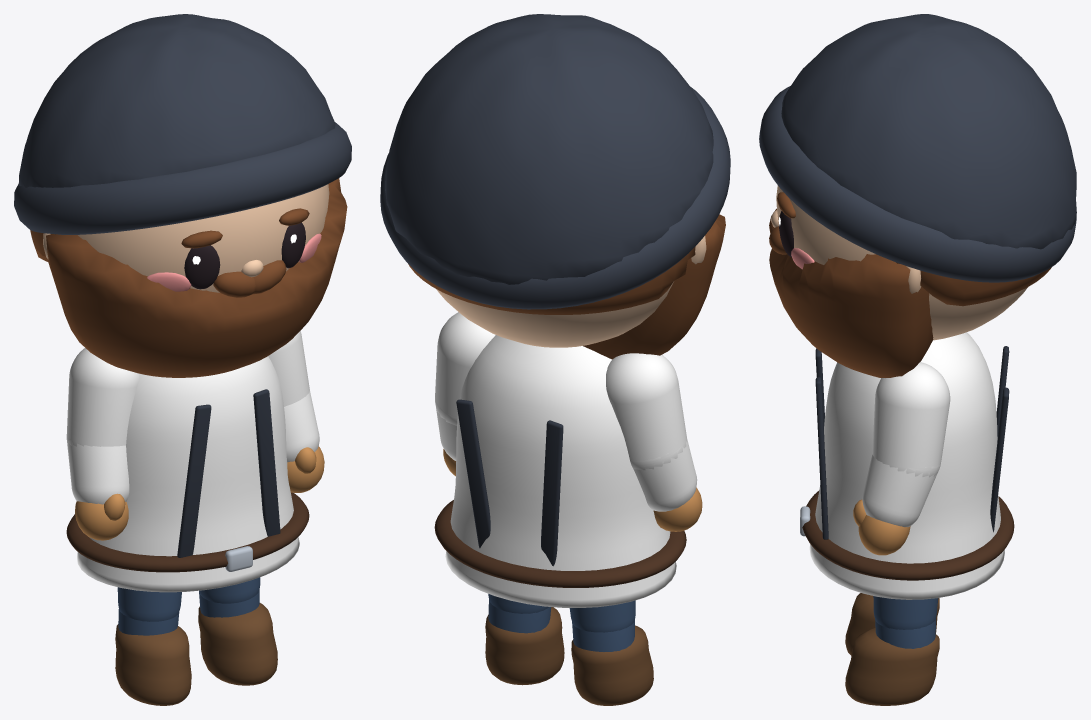
Rendered from lumberjack.glb.
3 renders of one model, left to right at view 1: azimuth 30°, elevation 25°; view 2: azimuth 150°, elevation 25°; view 3: azimuth 270°, elevation 25°, orthographic. The views are drawn at different scales.
Visible parts, largest first — view 1: head_body, spine_body, knee_R_body, knee_L_body, uarm_R, farm_R, head_face_normal+face_smile, hand_R_body, uarm_L, thigh_R, farm_L, hand_L_body (+1 smaller); view 2: head_body, spine_body, uarm_R, knee_R_body, knee_L_body, uarm_L, farm_R, thigh_R, hand_R_body, farm_L, thigh_L; view 3: head_body, spine_body, uarm_L, knee_L_body, farm_L, thigh_L, hand_L_body, knee_R_body.
Boxes of the visible parts, bbox=[...] form: head_body: bbox=[14, 14, 351, 377]; spine_body: bbox=[66, 356, 309, 592]; knee_R_body: bbox=[115, 609, 191, 705]; knee_L_body: bbox=[198, 589, 277, 685]; uarm_R: bbox=[66, 348, 139, 446]; farm_R: bbox=[66, 437, 129, 504]; head_face_normal+face_smile: bbox=[184, 222, 305, 289]; hand_R_body: bbox=[75, 493, 128, 540]; uarm_L: bbox=[268, 331, 309, 406]; thigh_R: bbox=[117, 587, 181, 621]; farm_L: bbox=[284, 390, 319, 462]; hand_L_body: bbox=[287, 446, 324, 492]; head_body: bbox=[380, 14, 730, 359]; spine_body: bbox=[434, 335, 686, 607]; uarm_R: bbox=[606, 353, 687, 470]; knee_R_body: bbox=[571, 619, 653, 705]; knee_L_body: bbox=[485, 599, 564, 685]; uarm_L: bbox=[435, 312, 495, 425]; farm_R: bbox=[630, 440, 697, 511]; thigh_R: bbox=[569, 600, 635, 632]; hand_R_body: bbox=[653, 487, 702, 531]; farm_L: bbox=[435, 396, 457, 460]; thigh_L: bbox=[488, 594, 548, 613]; head_body: bbox=[759, 14, 1076, 377]; spine_body: bbox=[800, 332, 1014, 599]; uarm_L: bbox=[872, 362, 950, 477]; knee_L_body: bbox=[845, 618, 939, 705]; farm_L: bbox=[862, 454, 940, 527]; thigh_L: bbox=[873, 596, 938, 629]; hand_L_body: bbox=[853, 499, 910, 555]; knee_R_body: bbox=[845, 593, 939, 655].
Size of what is drawn, in the model's own units: 0.702 by 1.44 by 0.642.
